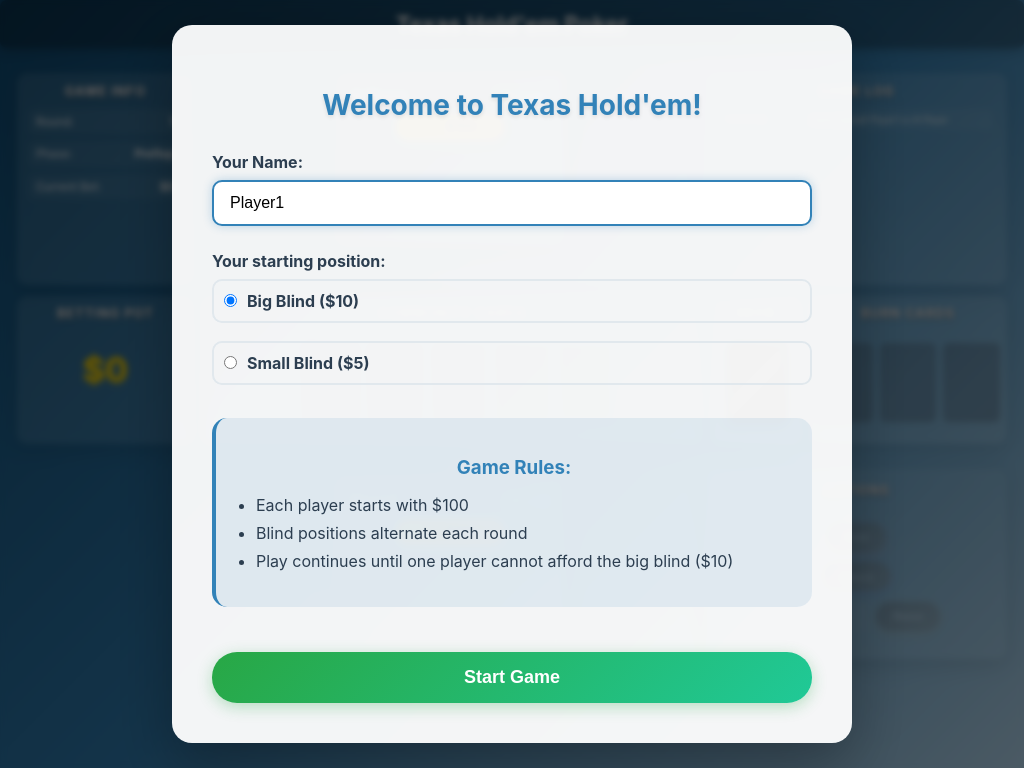
Test: Game Flow (GF-*) › GF-001–GF-006: Initialization › Start Game disabled when name is empty
This screenshot has width=1024, height=768.
Clear the field with placeholder "Enter your name" at (512, 203), box [212, 180, 812, 226]
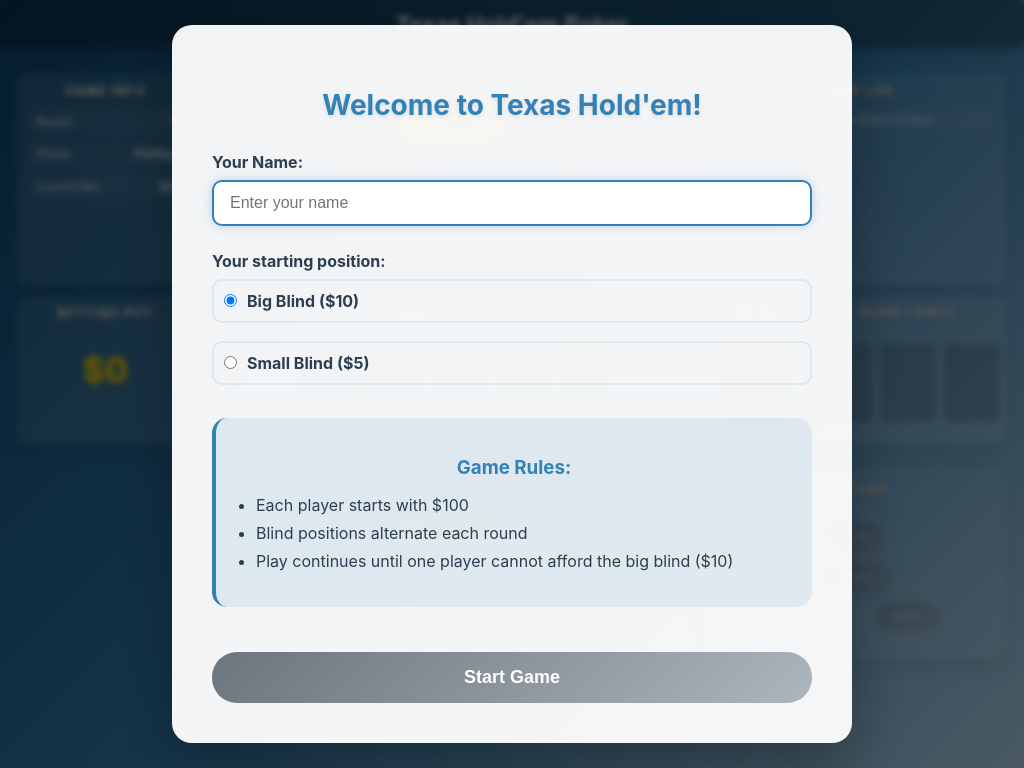
Result: the button "Start Game" is disabled at [212, 652, 812, 704]
